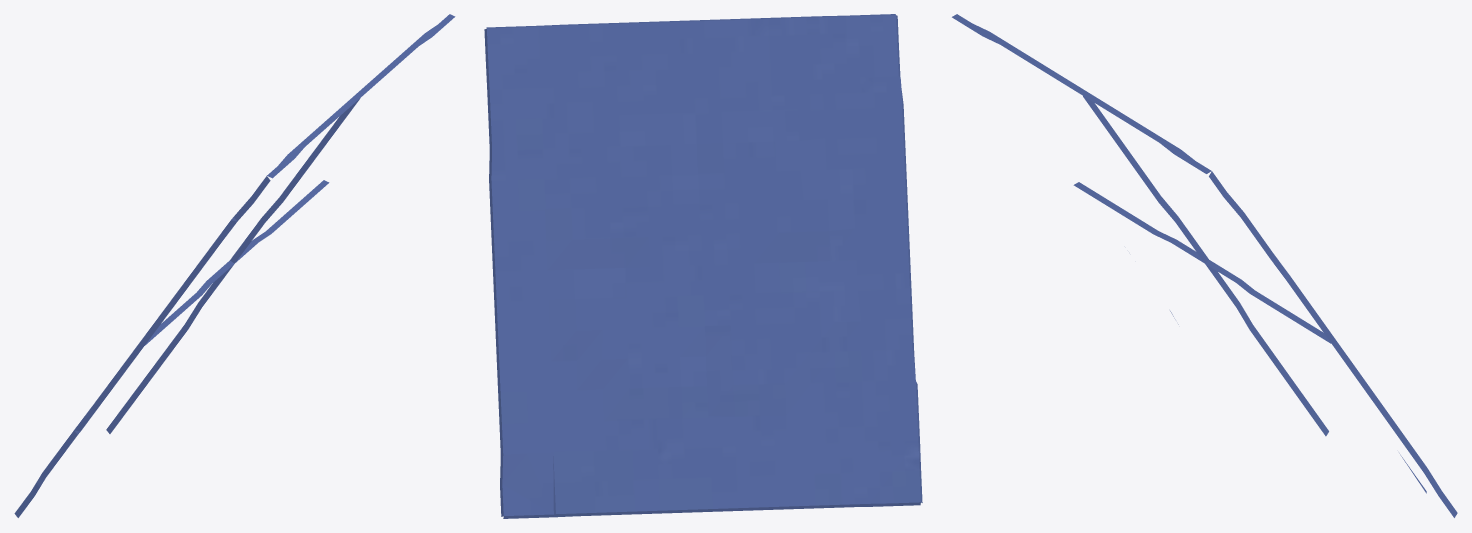
3 renders of one model, left to right at view 1: azimuth 30°, elevation 25°; view 2: azimuth 150°, elevation 25°; view 3: azimuth 270°, elevation 25°, orthographic. The views are drawn at different scales.
Size of the model in its own units: 158552 by 133325 by 146784.
1 material, 1 textured.
